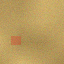vehicle: (10, 36, 20, 45)
